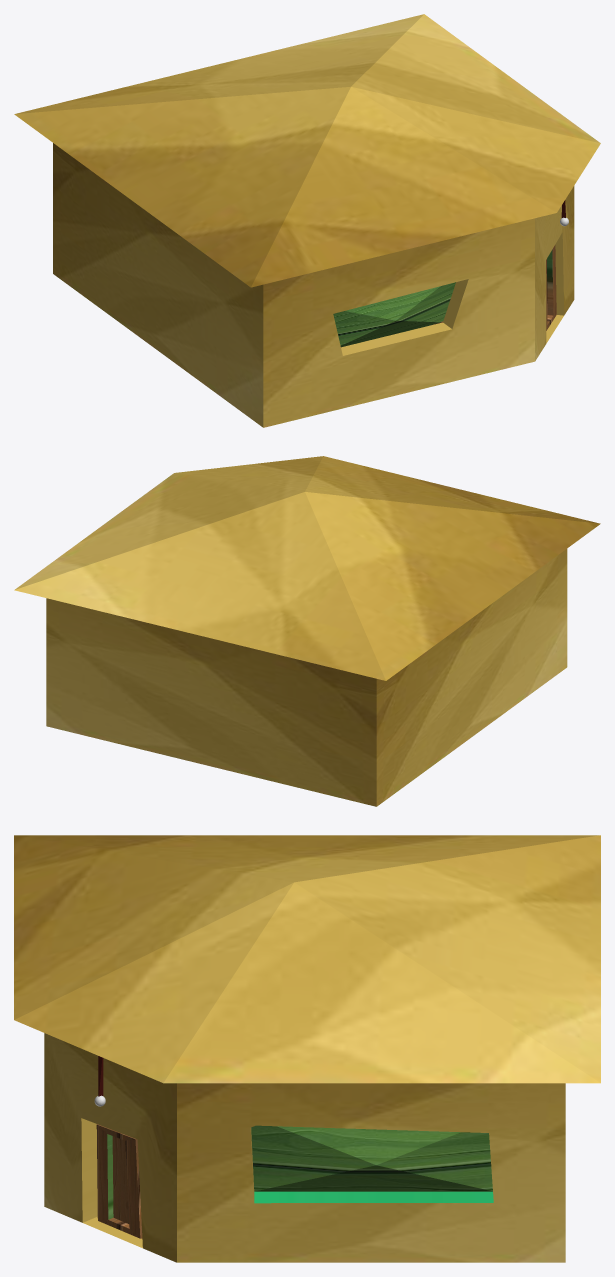
Rendered from house_1.glb.
The picture shows the model from 3 angles, top to bottom: view 1: azimuth 30°, elevation 25°; view 2: azimuth 150°, elevation 25°; view 3: azimuth 270°, elevation 25°; orthographic projection. The views are drawn at different scales.
Parts seen in each view (by area): view 1: Cube; view 2: Cube; view 3: Cube.
Boxes of the visible parts, bbox=[...] form: Cube: bbox=[14, 14, 600, 427]; Cube: bbox=[14, 456, 600, 806]; Cube: bbox=[14, 835, 600, 1262].
Size of what is drawn, in the model's own units: 30.3 by 15.61 by 30.3.
2 materials, 1 textured.
